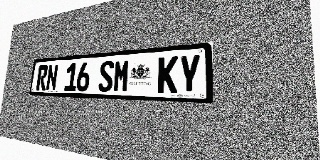1: (64, 63, 78, 91)
6: (76, 62, 91, 92)
K: (157, 56, 178, 93)
M: (113, 59, 130, 92)
N: (45, 64, 58, 91)
R: (36, 65, 48, 91)
S: (98, 60, 114, 92)
Y: (178, 54, 201, 94)
